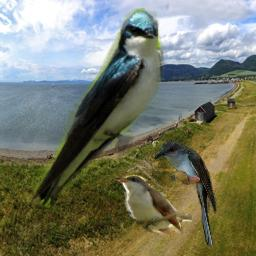Cuckoo: (154, 141, 218, 246), (112, 169, 192, 235)
Swallow: (30, 8, 166, 214)
